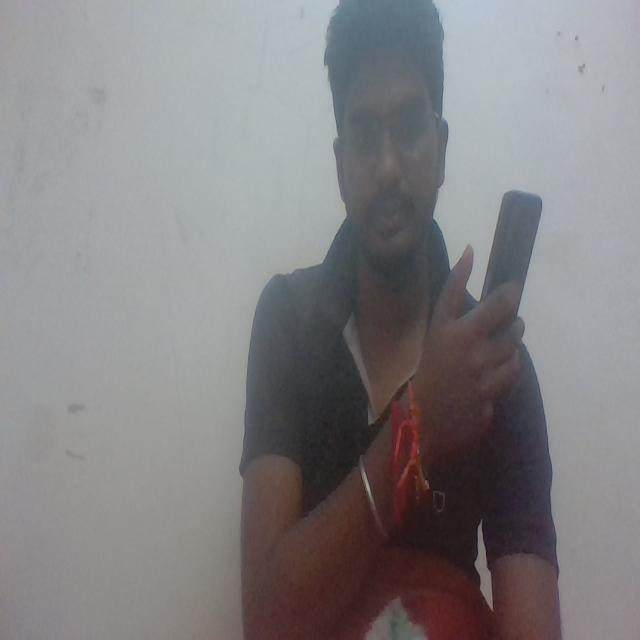Phone: (473, 186, 548, 336)
